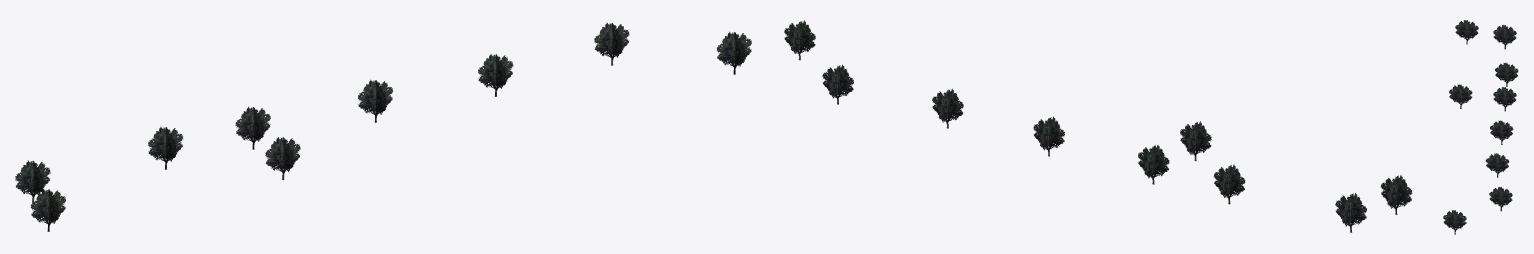
Rendered from planeTree06.FBX.
3 renders of one model, left to right at view 1: azimuth 30°, elevation 25°; view 2: azimuth 150°, elevation 25°; view 3: azimuth 270°, elevation 25°, orthographic. The views are drawn at different scales.
Visible parts, largest first — view 1: planeTree06; view 2: planeTree06; view 3: planeTree06.
Part boxes in pixels (<box>): planeTree06: <box>15,22,751,231</box>; planeTree06: <box>784,20,1412,232</box>; planeTree06: <box>1443,20,1518,234</box>.
Size of the model in its own units: 7595 by 441 by 1235.
